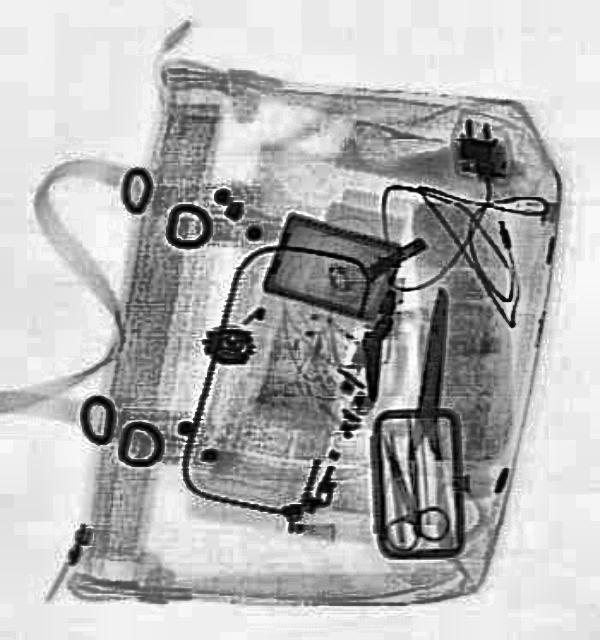Scissors: (354, 425, 451, 555)
